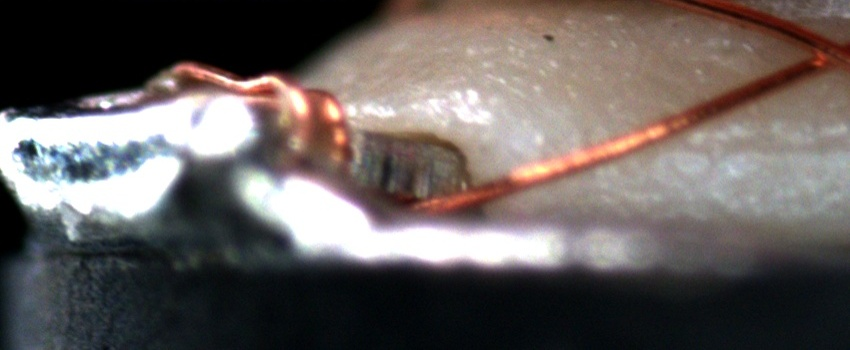CL: (791, 26, 849, 76)
DL: (627, 119, 850, 183)
TE: (154, 50, 372, 183)
